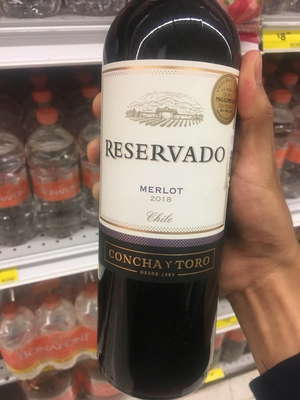reservado merlot: (86, 19, 253, 380)
